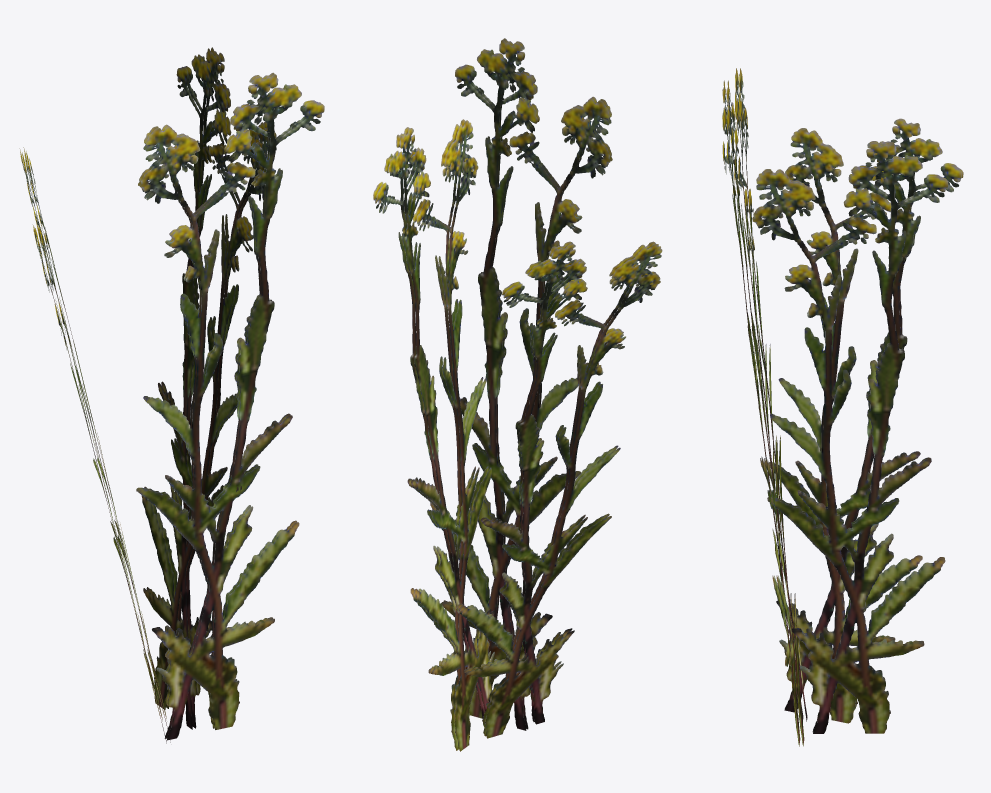
File: grassweed03.fbx
The picture shows the model from 3 angles, left to right: view 1: azimuth 30°, elevation 25°; view 2: azimuth 150°, elevation 25°; view 3: azimuth 270°, elevation 25°; orthographic projection. The views are drawn at different scales.
Parts seen in each view (by area): view 1: grassweed03; view 2: grassweed03; view 3: grassweed03.
Part boxes in pixels (x1,y1,x2,y2): grassweed03: (19,47,324,743); grassweed03: (373,38,662,751); grassweed03: (722,68,963,746).
Size of the model in its own units: 29.61 by 68.72 by 24.32.
